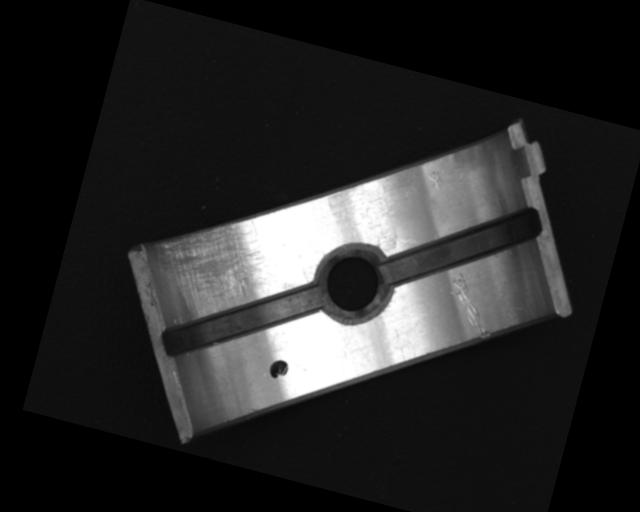blot: (266, 357, 290, 382)
bruise: (423, 167, 445, 192)
gap: (379, 175, 547, 317), (158, 252, 325, 387)
hole: (308, 235, 402, 330)
nick: (438, 270, 503, 341)
scratch: (141, 193, 307, 338)
